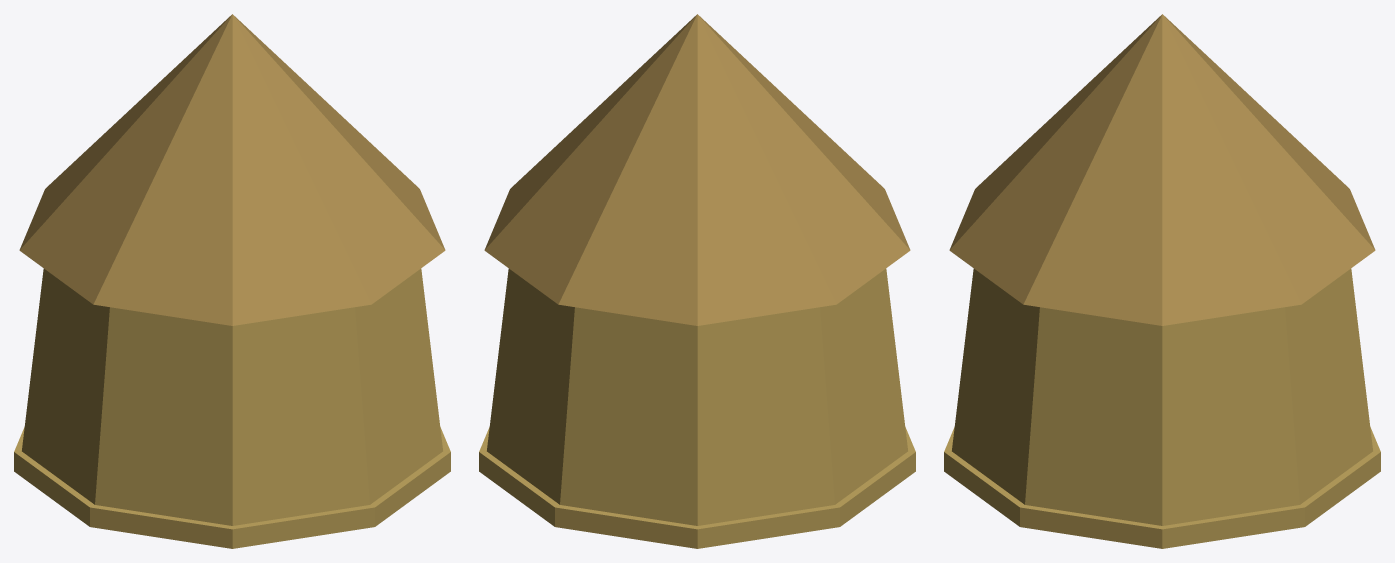
Rendered from hay_stack.glb.
3 renders of one model, left to right at view 1: azimuth 30°, elevation 25°; view 2: azimuth 150°, elevation 25°; view 3: azimuth 270°, elevation 25°, orthographic.
Parts seen in each view (by area): view 1: hay_stack; view 2: hay_stack; view 3: hay_stack.
Part boxes in pixels (x1,y1,x2,y2): hay_stack: [14, 14, 450, 548]; hay_stack: [479, 14, 915, 548]; hay_stack: [944, 14, 1380, 548].
Bounding box in the file's own units: 1.59 × 1.8 × 1.62.
